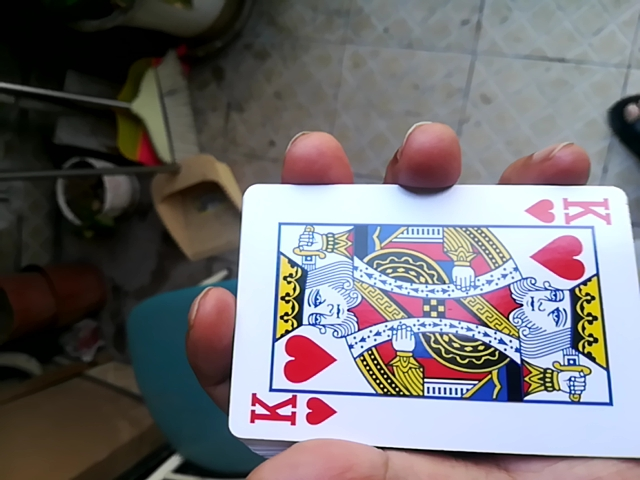hx k: (220, 179, 639, 461)
